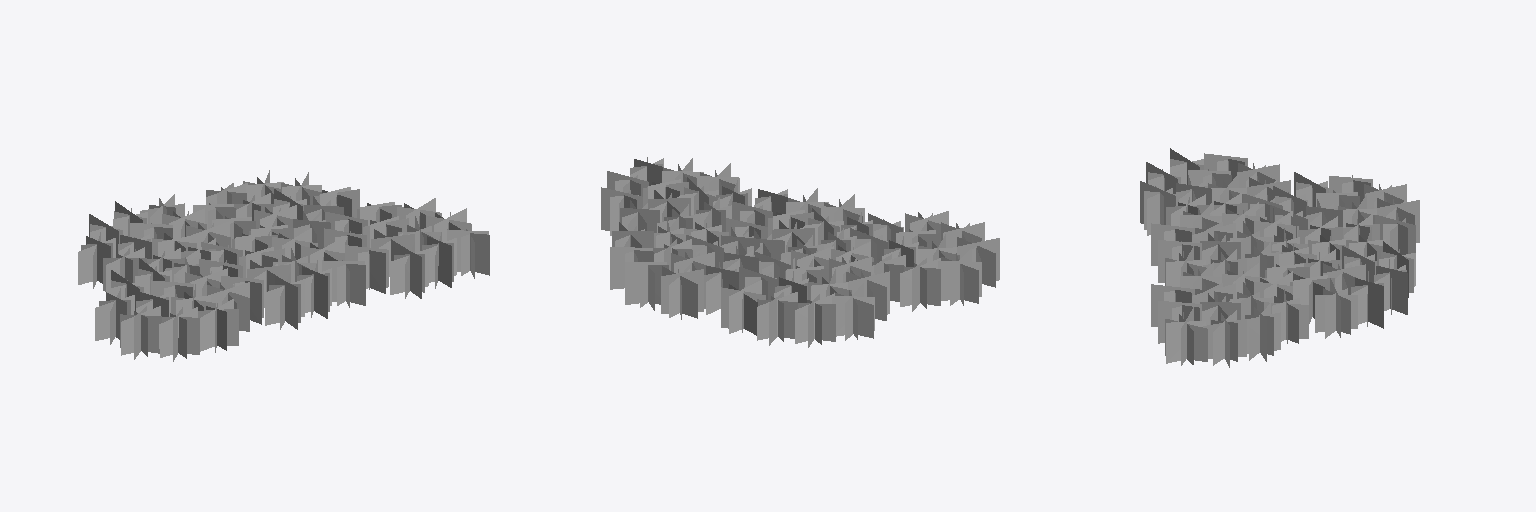
Rendered from grass.obj.
The picture shows the model from 3 angles: view 1: azimuth 30°, elevation 25°; view 2: azimuth 150°, elevation 25°; view 3: azimuth 270°, elevation 25°; orthographic projection.
Parts seen in each view (by area): view 1: Grass_Patch_6_Plane.005; view 2: Grass_Patch_6_Plane.005; view 3: Grass_Patch_6_Plane.005.
Boxes of the visible parts, x1,y1,x2,y2 form: Grass_Patch_6_Plane.005: [78, 170, 489, 361]; Grass_Patch_6_Plane.005: [601, 157, 999, 347]; Grass_Patch_6_Plane.005: [1140, 148, 1419, 367].
Bounding box in the file's own units: 4.48 × 0.4935 × 2.92.